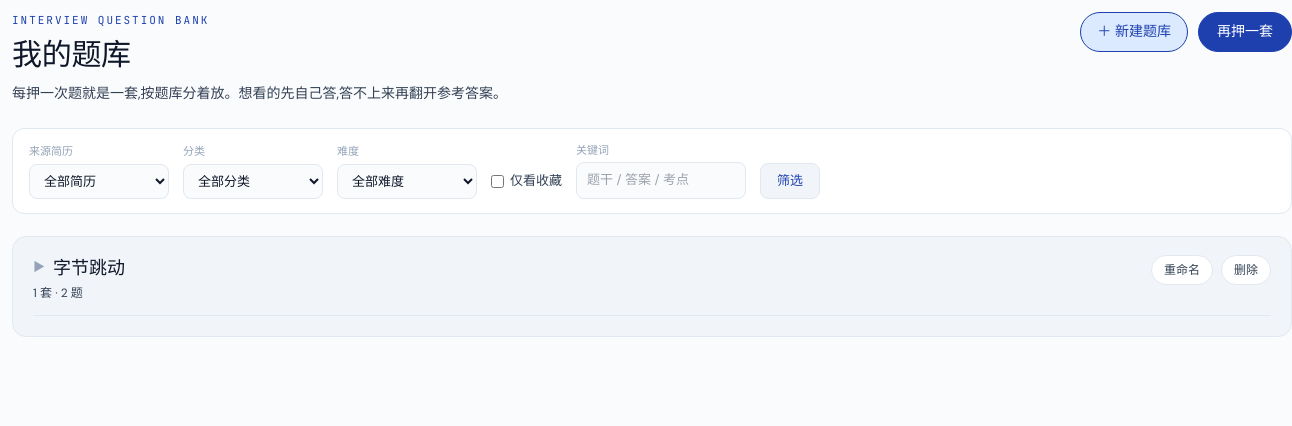
Scenario: QuestionBank · 套与题目 › 删整套:整套从题库下消失
What coordinates should you click on to do the following:
click the button "▶ 字节跳动"
I would click on:
 (79, 268)
Its box is [33,255,125,280].
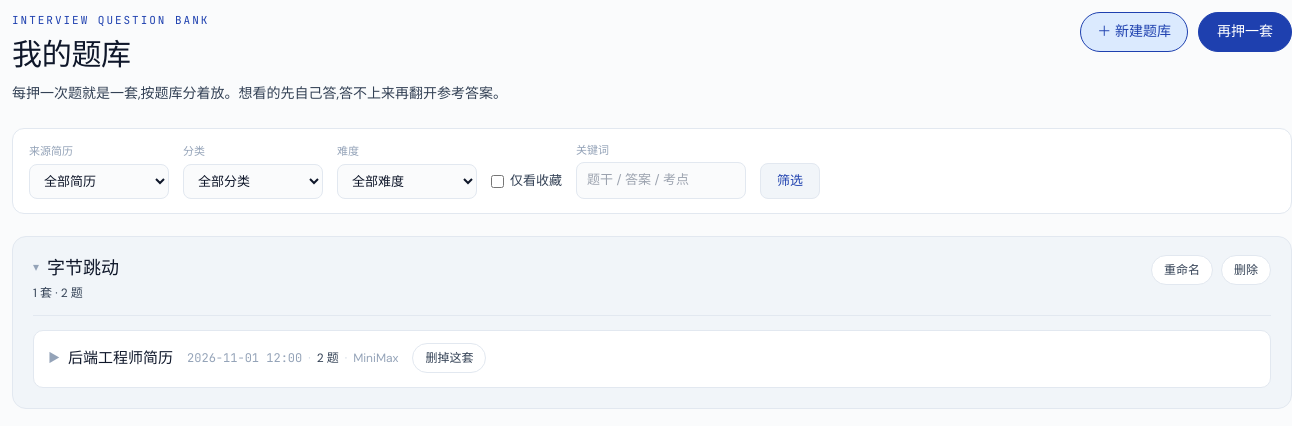
Expected: the element "后端工程师简历" is shown, [33,330,1271,388]
What coordinates should you click on to do the following:
click the button "删掉这套"
I would click on:
 (450, 358)
Its box is [412,343,486,373].
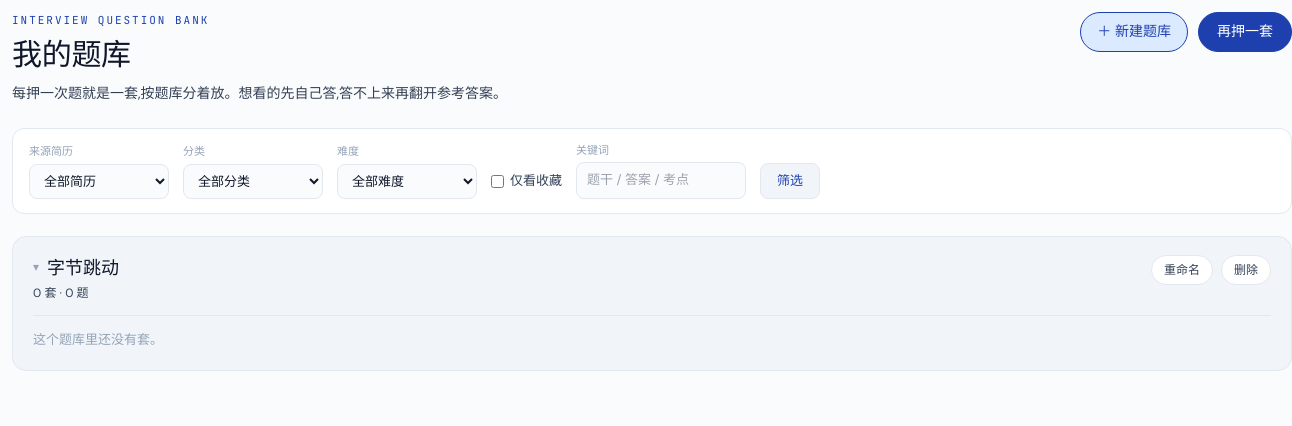
Expected: the button "后端工程师简历" is gone
